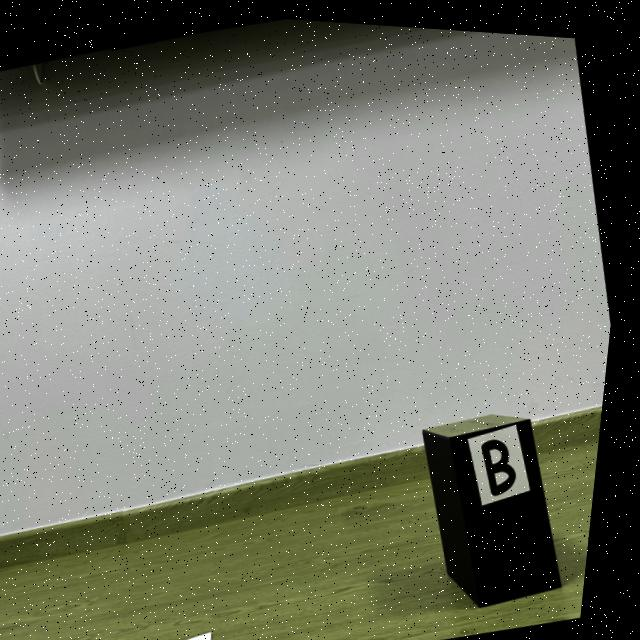B: (490, 431, 525, 487)
